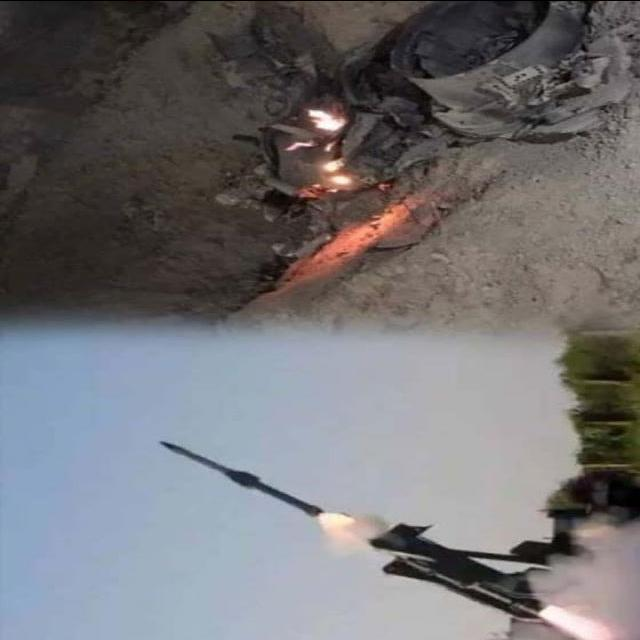missile: (157, 437, 326, 517)
